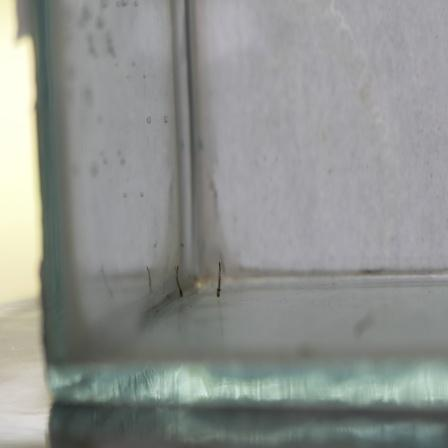Jentik-Nyamuk: (211, 261, 229, 300), (170, 262, 187, 301)
